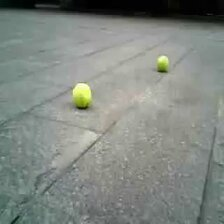tennis: (72, 82, 91, 108), (157, 55, 168, 71)
